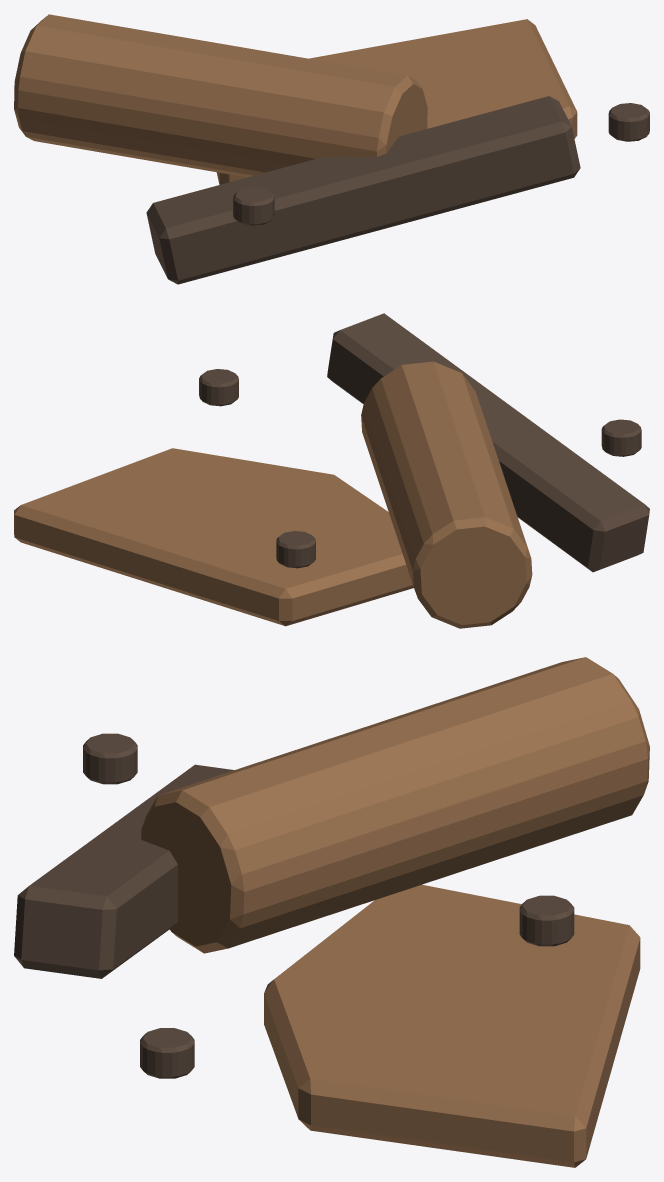
Rendered from item_scrap_metal.glb.
3 renders of one model, top to bottom at view 1: azimuth 30°, elevation 25°; view 2: azimuth 150°, elevation 25°; view 3: azimuth 270°, elevation 25°, orthographic. The views are drawn at different scales.
Parts seen in each view (by area): view 1: item_scrap_metal; view 2: item_scrap_metal; view 3: item_scrap_metal.
Boxes of the visible parts, x1,y1,x2,y2 form: item_scrap_metal: (14, 14, 649, 284); item_scrap_metal: (14, 313, 649, 628); item_scrap_metal: (14, 657, 649, 1167).
Bounding box in the file's own units: 0.4257 × 0.114 × 0.3351.
